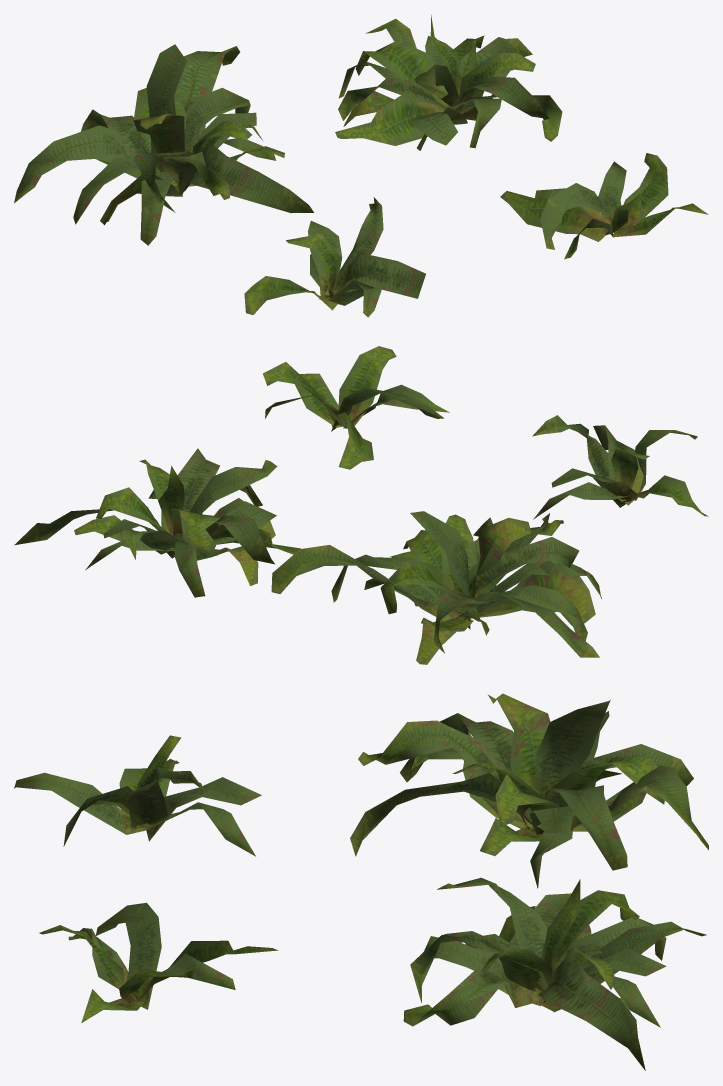
The model's file is glb_fern.6d82ad9a.glb.
The picture shows the model from 3 angles, top to bottom: view 1: azimuth 30°, elevation 25°; view 2: azimuth 150°, elevation 25°; view 3: azimuth 270°, elevation 25°; orthographic projection. The views are drawn at different scales.
Visible parts, largest first — view 1: fern_02_b; view 2: fern_02_b; view 3: fern_02_b.
Part boxes in pixels (x1,y1,x2,y2): fern_02_b: (14,15,708,317); fern_02_b: (14,346,708,664); fern_02_b: (14,693,708,1070).
Bounding box in the file's own units: 1.97 × 0.4246 × 1.72.
Materials: 1 (1 with a texture image).
